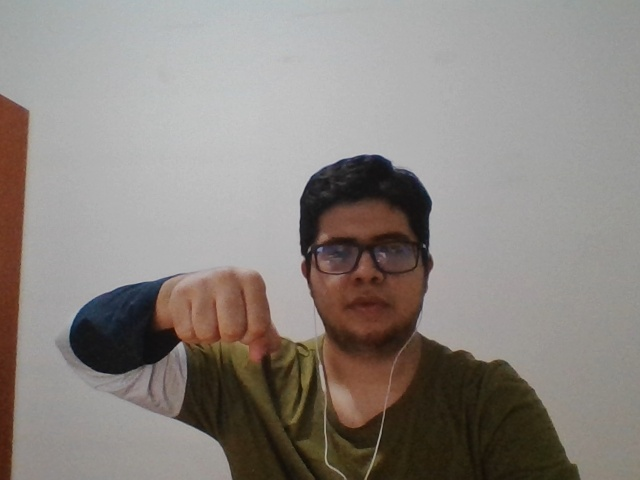Yes: (150, 255, 286, 366)
